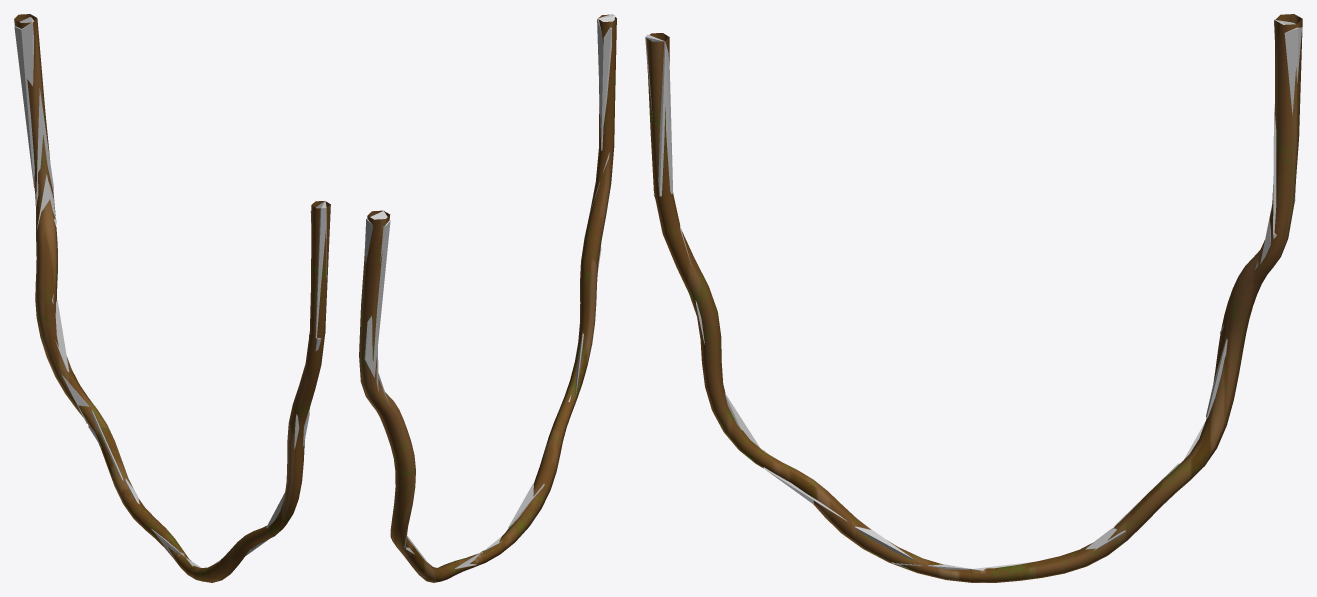
Rendered from SM_SmallRoot_d.fbx.
The picture shows the model from 3 angles, left to right: view 1: azimuth 30°, elevation 25°; view 2: azimuth 150°, elevation 25°; view 3: azimuth 270°, elevation 25°; orthographic projection. The views are drawn at different scales.
Parts seen in each view (by area): view 1: SM_SmallRoot_d, SM_SmallRoot_d_ConvexHulls; view 2: SM_SmallRoot_d, SM_SmallRoot_d_ConvexHulls; view 3: SM_SmallRoot_d, SM_SmallRoot_d_ConvexHulls.
Boxes of the visible parts, bbox=[...] form: SM_SmallRoot_d: bbox=[14, 14, 330, 582]; SM_SmallRoot_d_ConvexHulls: bbox=[14, 17, 326, 567]; SM_SmallRoot_d: bbox=[359, 14, 616, 582]; SM_SmallRoot_d_ConvexHulls: bbox=[364, 14, 615, 568]; SM_SmallRoot_d: bbox=[646, 14, 1302, 582]; SM_SmallRoot_d_ConvexHulls: bbox=[645, 19, 1301, 570].
Bounding box in the file's own units: 48.07 × 460 × 423.
Materials: 2 (1 with a texture image).
